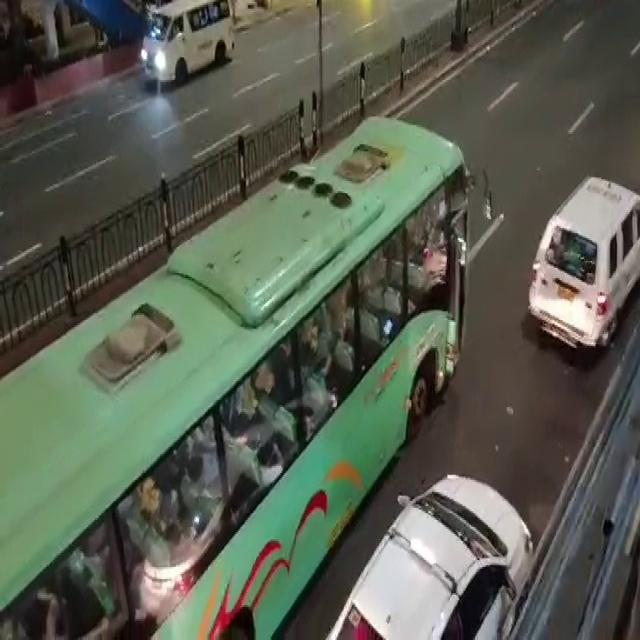car: (517, 154, 640, 373)
